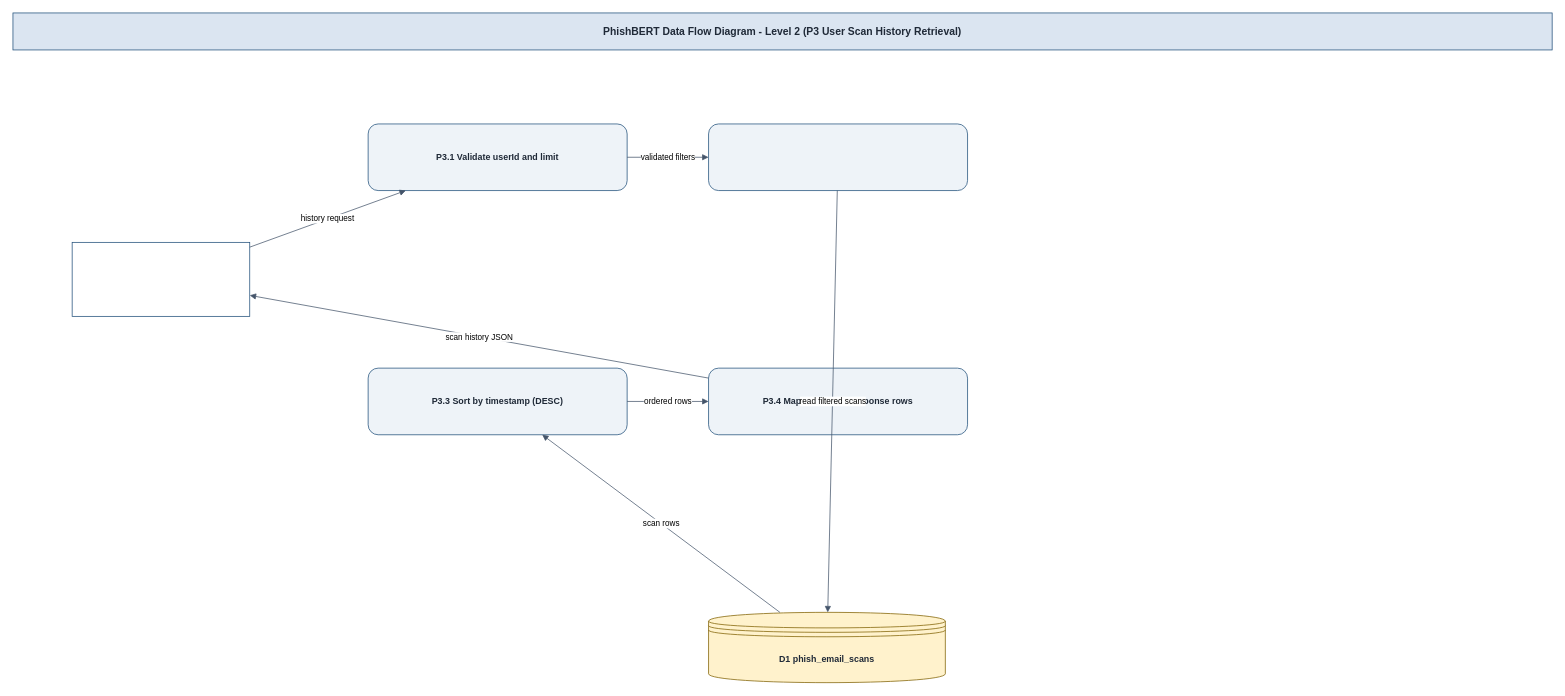
This 1565x696 diagram has some shape labels left out. Each missing label, with the centre of its shape:
"E1 User" goes at (160,279).
"P3.2 Query scans by user_id" goes at (838,157).
